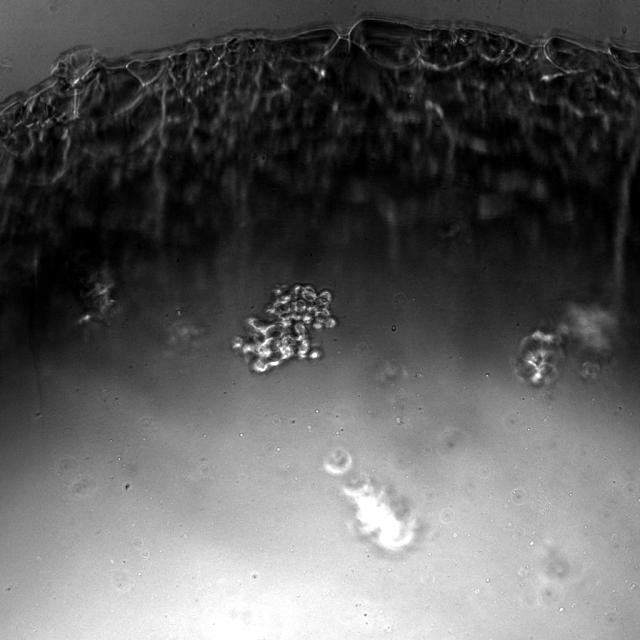organoid: (232, 284, 337, 373), (514, 304, 618, 386), (343, 479, 417, 551), (78, 271, 116, 333), (323, 448, 352, 476)
